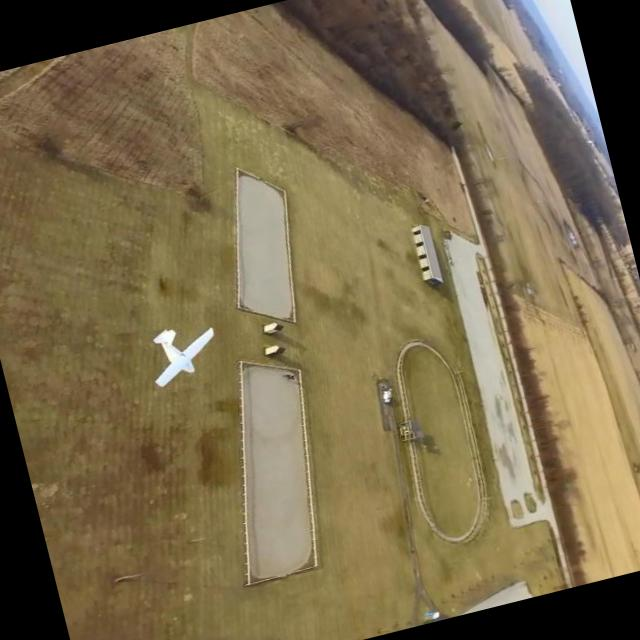UAV: (123, 315, 247, 418)
